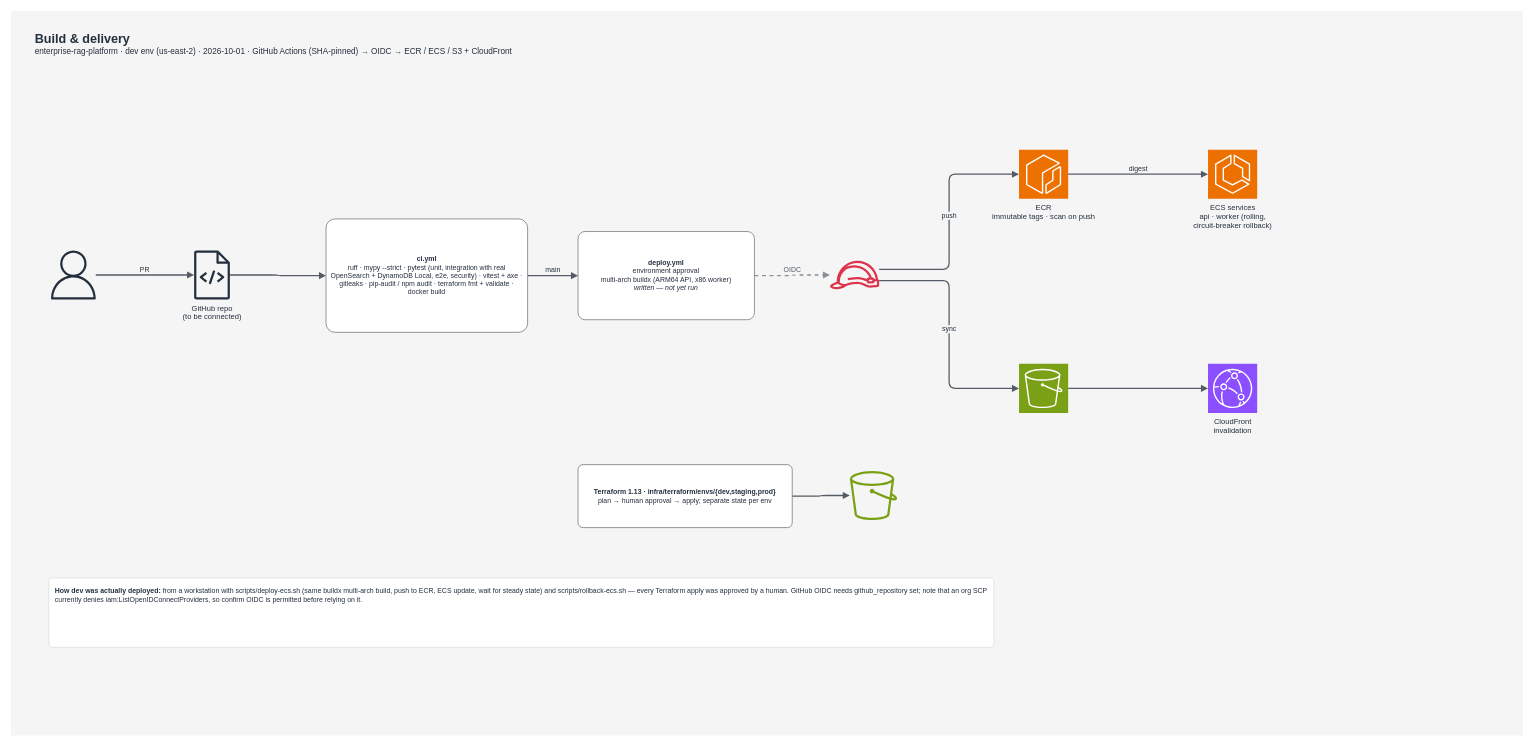
The diagram is 1533 pixels wide and 746 high, and some of its shapes have lost their labels. Here are the shapes that lost their labels. From the top down, the centre of each, then its label:
[73,274]: Engineer
[854,274]: GitHub OIDC provider + scoped deploy role not created in dev
[1043,388]: S3 web bucket
[873,495]: State bucket versioned · KMS · lockfile
